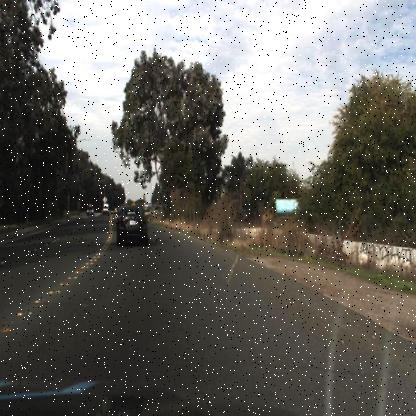car: (115, 204, 150, 248), (102, 203, 110, 215), (86, 206, 94, 216)
